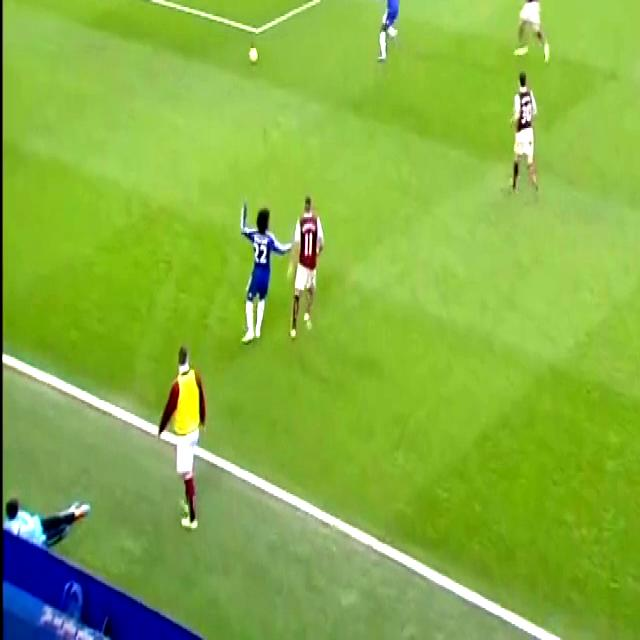ball: (243, 38, 261, 74)
soccer-player: (236, 186, 289, 350), (283, 181, 332, 344), (506, 60, 548, 199), (511, 0, 559, 73), (371, 0, 410, 73)
